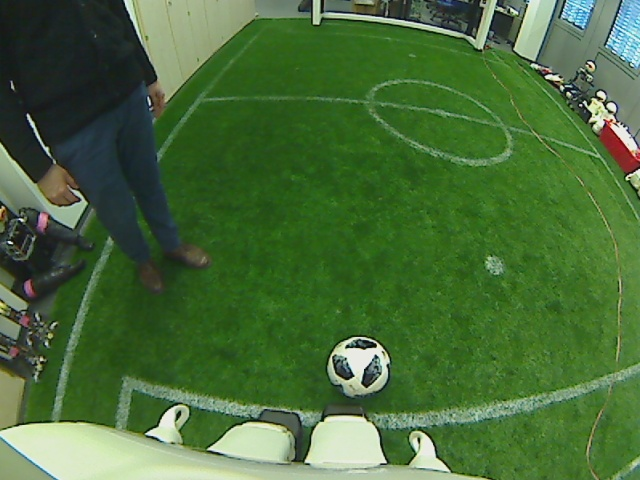ball: (326, 334, 392, 399)
